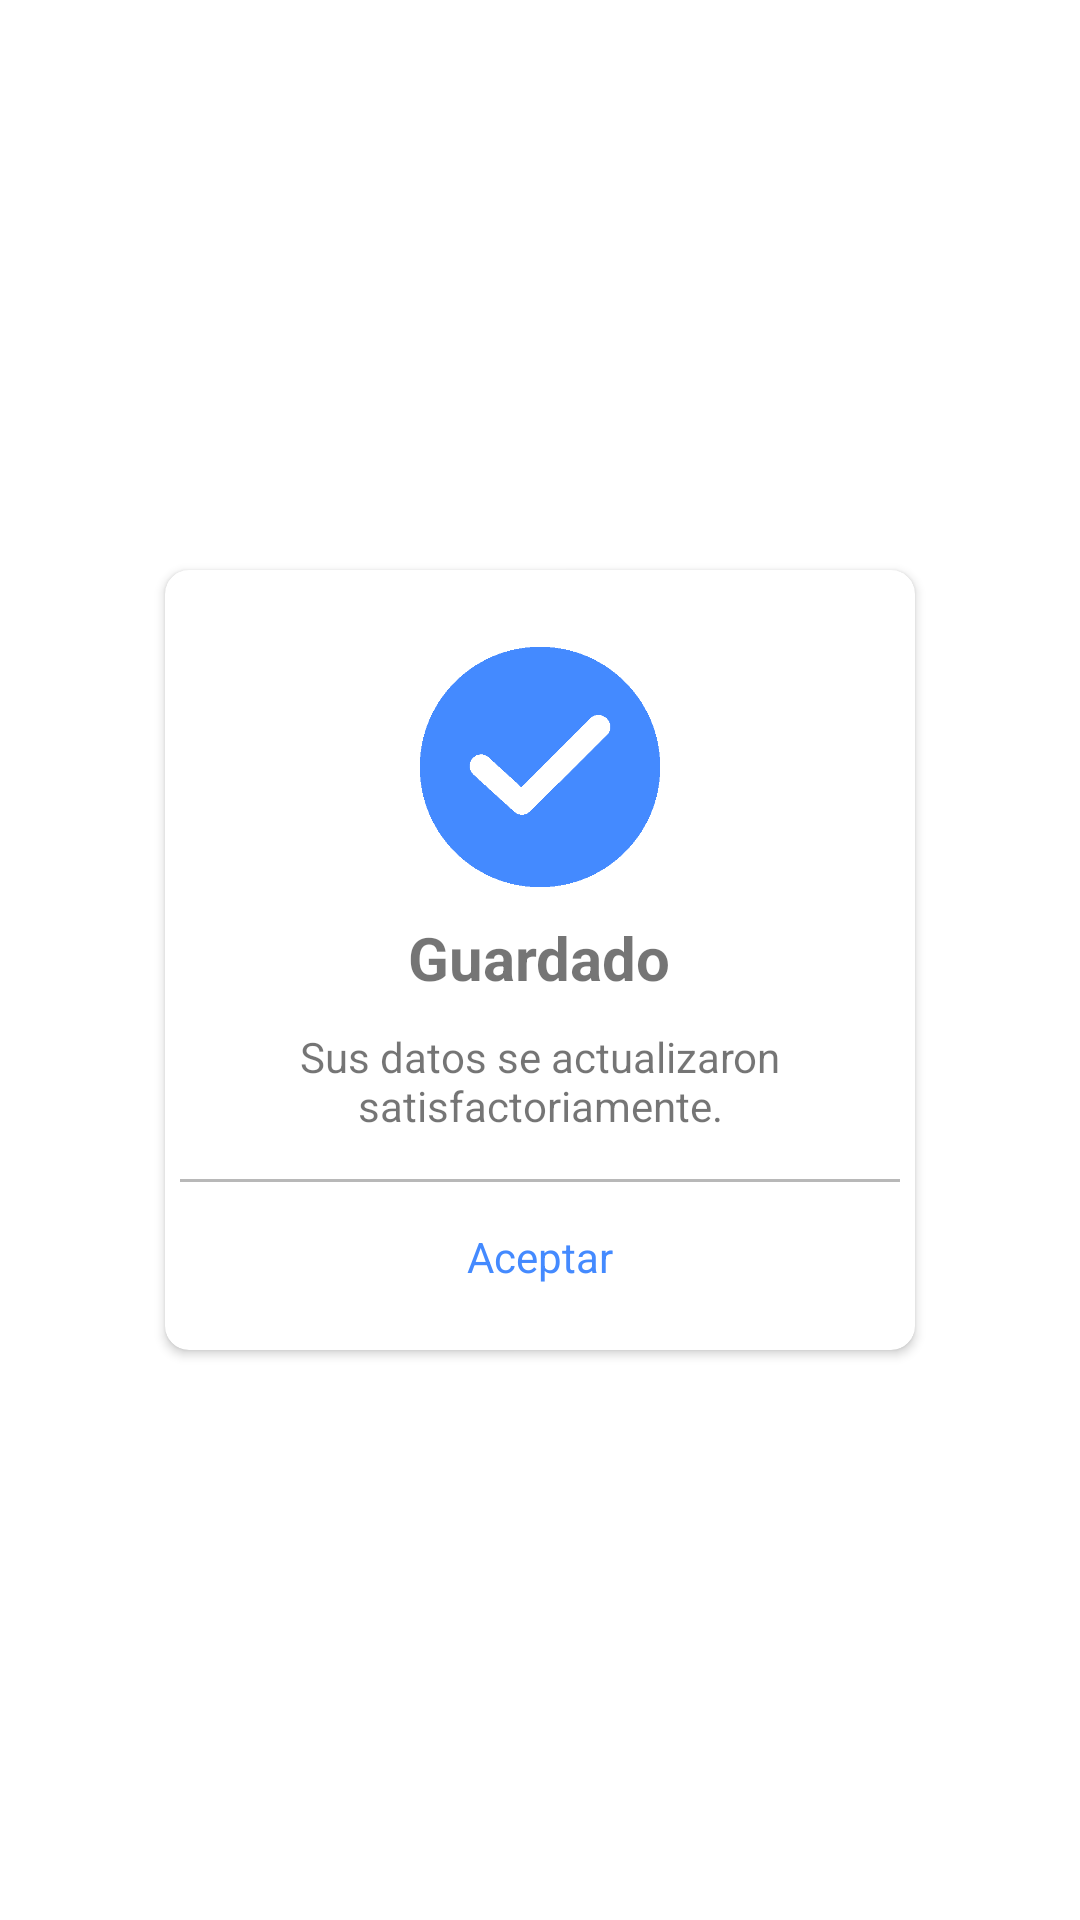

Screen size 1080×1920. Icon name, then its center in pixels as (x,y):
checked: (540,767)
